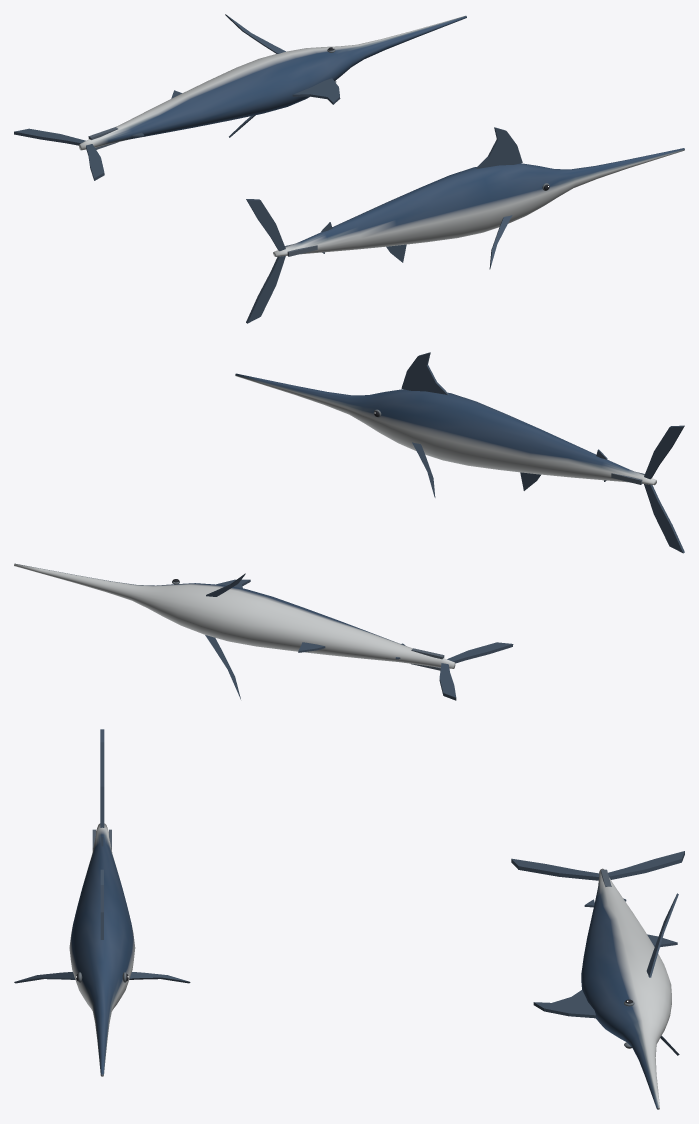
Rendered from swordfish_hero.glb.
The picture shows the model from 3 angles, top to bottom: view 1: azimuth 30°, elevation 25°; view 2: azimuth 150°, elevation 25°; view 3: azimuth 270°, elevation 25°; orthographic projection. The views are drawn at different scales.
Parts seen in each view (by area): view 1: Swordfish_Display_Body, Swordfish_OnDeck_Body, Swordfish_Display_Tail, Swordfish_Display_Dorsal1, Swordfish_OnDeck_Tail, Swordfish_OnDeck_Dorsal1; view 2: Swordfish_Display_Body, Swordfish_OnDeck_Body, Swordfish_Display_Tail, Swordfish_Display_Dorsal1, Swordfish_OnDeck_Tail; view 3: Swordfish_OnDeck_Body, Swordfish_Display_Body, Swordfish_OnDeck_Tail, Swordfish_OnDeck_Dorsal1.
Part boxes in pixels (<box>): Swordfish_Display_Body: <box>273,148,684,256</box>; Swordfish_OnDeck_Body: <box>79,15,466,150</box>; Swordfish_Display_Tail: <box>246,199,285,323</box>; Swordfish_Display_Dorsal1: <box>476,127,522,168</box>; Swordfish_OnDeck_Tail: <box>14,128,104,180</box>; Swordfish_OnDeck_Dorsal1: <box>292,78,340,104</box>; Swordfish_Display_Body: <box>235,373,656,485</box>; Swordfish_OnDeck_Body: <box>14,563,455,668</box>; Swordfish_Display_Tail: <box>644,425,684,553</box>; Swordfish_Display_Dorsal1: <box>401,352,448,394</box>; Swordfish_OnDeck_Tail: <box>439,642,513,700</box>; Swordfish_OnDeck_Body: <box>581,868,671,1109</box>; Swordfish_Display_Body: <box>69,823,135,1076</box>; Swordfish_OnDeck_Tail: <box>511,851,684,880</box>; Swordfish_OnDeck_Dorsal1: <box>533,990,595,1018</box>.
Bounding box in the file's own units: 3.22 × 1.15 × 3.3.
